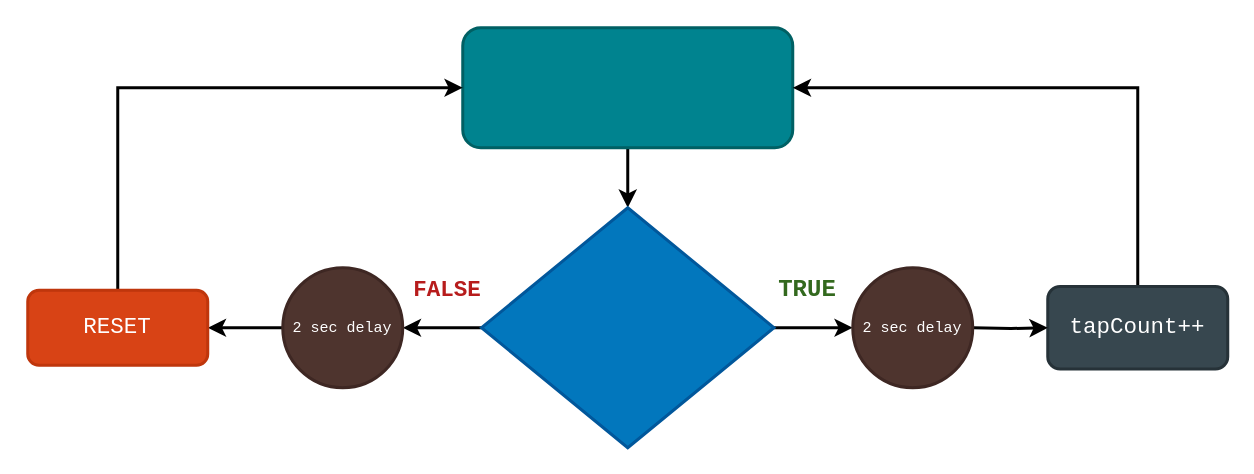
Image size: 1254x474. Some labels were removed from this diagram. Each missing label, with the centre of its shape:
TAP TO INCREASE: (x=627, y=87)
tapCount < maxAttempts: (x=627, y=327)
